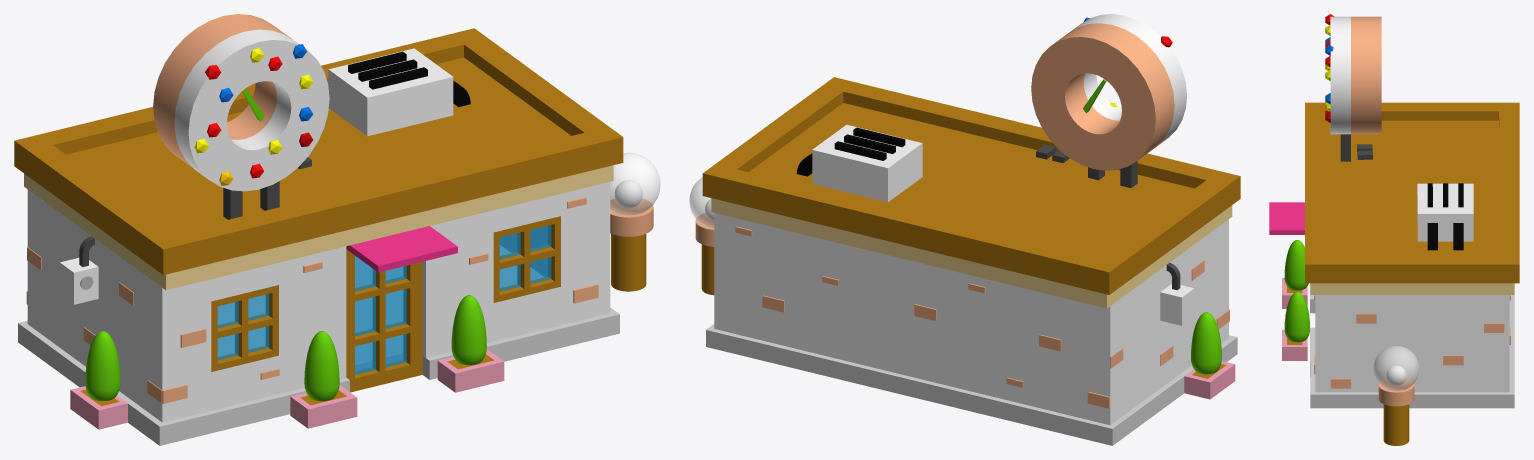
Rendered from sweet_house.glb.
The picture shows the model from 3 angles, left to right: view 1: azimuth 30°, elevation 25°; view 2: azimuth 150°, elevation 25°; view 3: azimuth 270°, elevation 25°; orthographic projection. The views are drawn at different scales.
Parts seen in each view (by area): view 1: box.062, box.060, box.048, box.011, annulus.003, box.061, box.078, box.081, box.079, box.057, box.039, box.084 (+43 smaller); view 2: box.014, box.062, box.058, box.048, annulus.004, box.011, box.060, box.061, box.039, box.057, box.059, box.032 (+14 smaller); view 3: box.062, box.034, box.059, annulus.004, box.032, box.060, box.058, box.057, box.061, annulus.003, box.011, sphere.018 (+10 smaller).
Boxes of the visible parts, x1,y1,x2,y2 form: box.062: [67, 57, 570, 232]; box.060: [168, 133, 604, 268]; box.048: [27, 189, 155, 416]; box.011: [24, 165, 613, 290]; annulus.003: [174, 29, 329, 191]; box.061: [14, 134, 187, 274]; box.078: [279, 246, 346, 393]; box.081: [422, 210, 493, 357]; box.079: [155, 279, 211, 422]; box.057: [328, 48, 453, 136]; box.039: [18, 314, 349, 445]; box.084: [561, 182, 610, 324]; box.014: [725, 215, 1104, 423]; box.062: [724, 103, 1194, 257]; box.058: [724, 169, 1103, 290]; box.048: [1100, 224, 1222, 425]; annulus.004: [1031, 23, 1174, 170]; box.011: [711, 198, 1232, 308]; box.060: [840, 81, 1218, 188]; box.061: [1088, 171, 1240, 294]; box.039: [944, 335, 1237, 445]; box.057: [812, 124, 922, 202]; box.059: [702, 77, 854, 200]; box.032: [706, 324, 876, 386]; box.062: [1325, 120, 1499, 256]; box.034: [1320, 295, 1509, 392]; box.059: [1305, 256, 1519, 283]; annulus.004: [1351, 16, 1381, 134]; box.032: [1310, 327, 1514, 408]; box.060: [1305, 109, 1325, 258]; box.058: [1499, 109, 1519, 255]; box.057: [1417, 183, 1473, 241]; box.061: [1305, 102, 1519, 120]; annulus.003: [1330, 16, 1350, 134]; box.011: [1310, 283, 1514, 294]; sphere.018: [1373, 346, 1419, 390].
Size of the model in its own units: 17.68 by 10.88 by 9.08.
